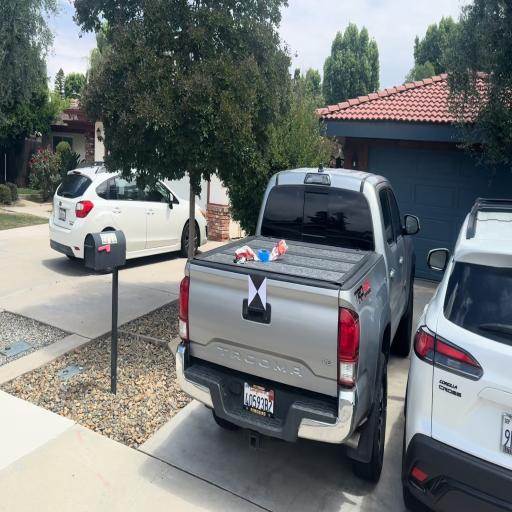target: (249, 274, 267, 310)
